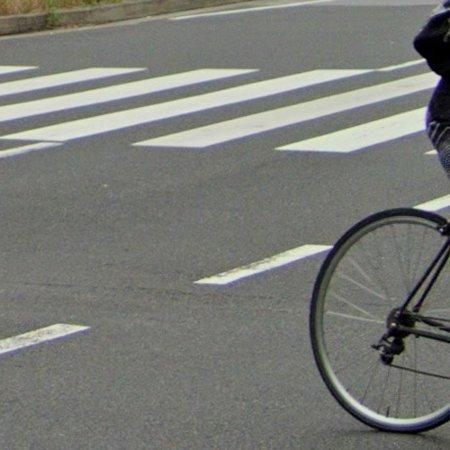crosswalks: (0, 61, 440, 159)
